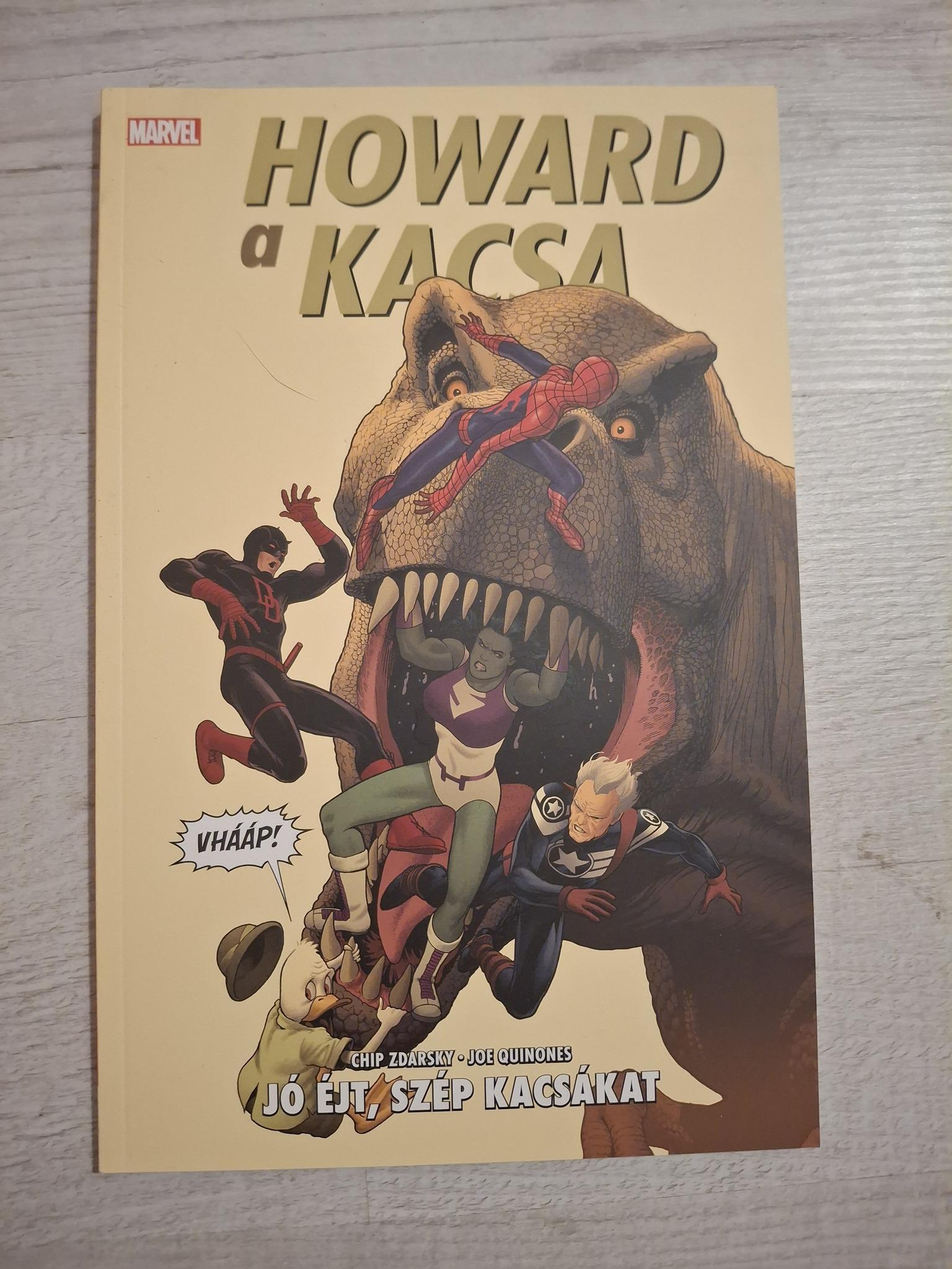comic: (83, 79, 818, 1171)
